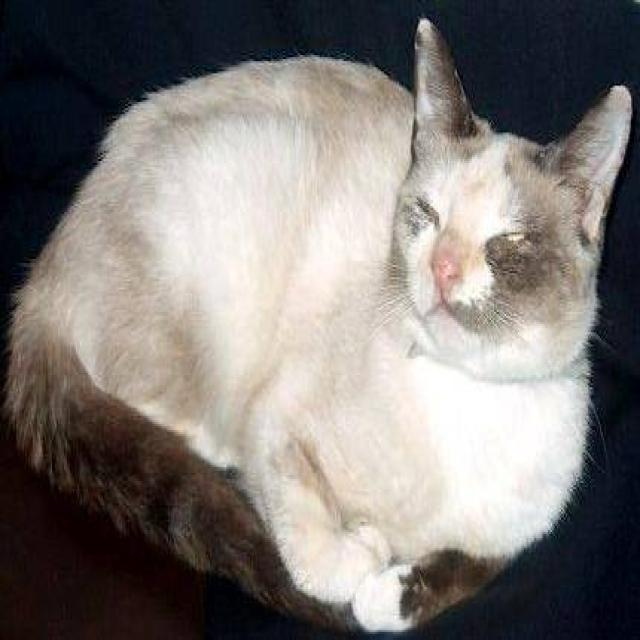cat: (1, 16, 632, 636)
